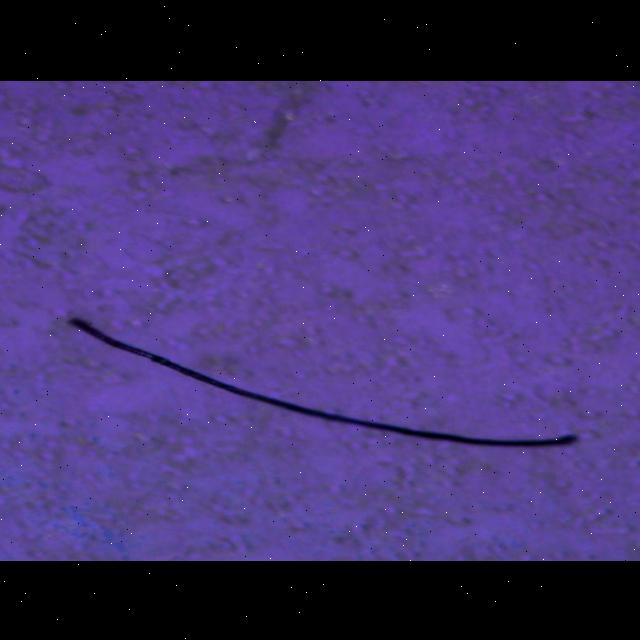Fibre: (64, 316, 578, 448)
